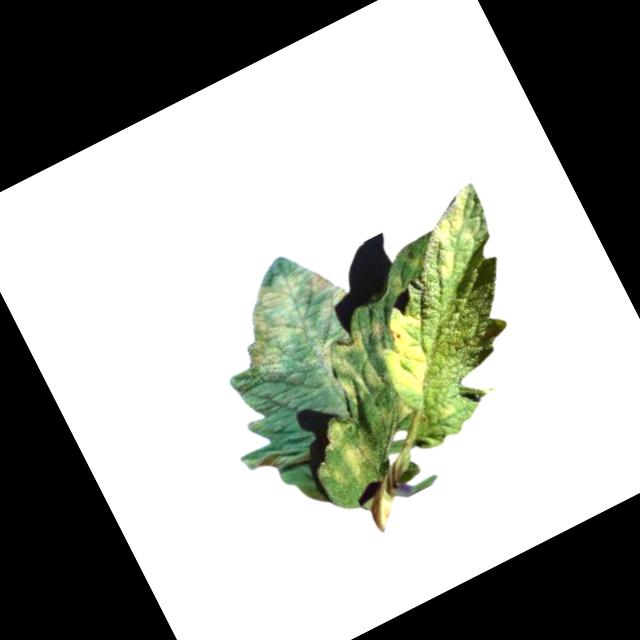Leaf_Mold: (213, 240, 371, 391), (362, 303, 451, 406), (406, 194, 495, 288), (306, 407, 382, 488), (318, 326, 391, 410)
